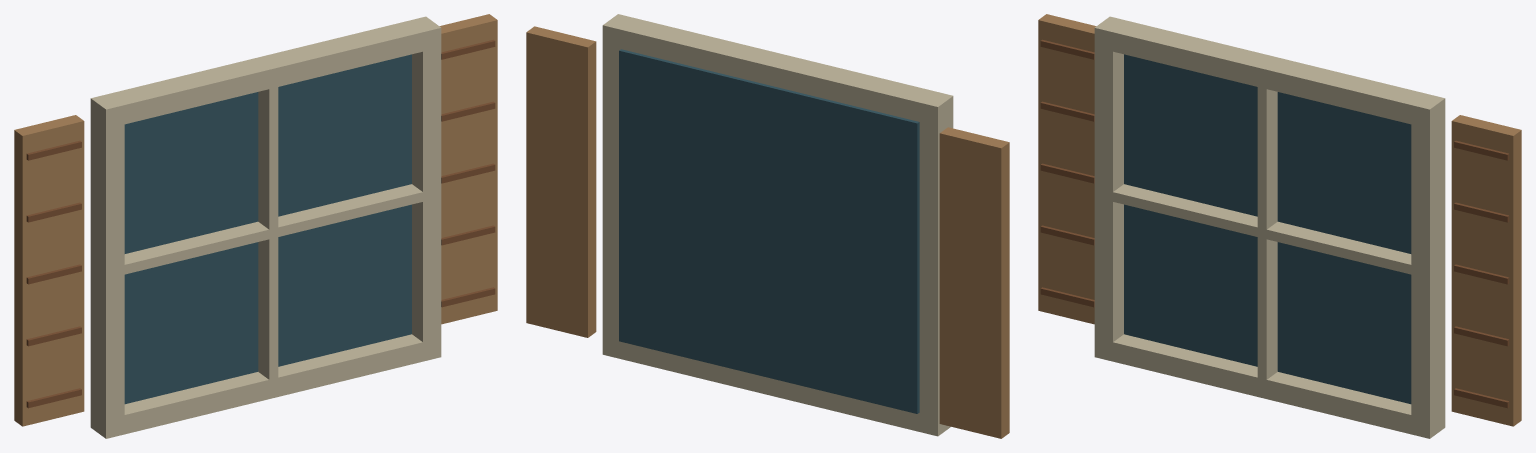
Rendered from window_01.glb.
3 views of the same model, side by side, from view 1: azimuth 30°, elevation 25°; view 2: azimuth 150°, elevation 25°; view 3: azimuth 330°, elevation 25° (orthographic).
Visible parts, largest first — view 1: window_01; view 2: window_01; view 3: window_01.
Part boxes in pixels (<box>): window_01: <box>14,14,497,438</box>; window_01: <box>526,14,1009,438</box>; window_01: <box>1038,14,1521,438</box>.
Size of the model in its own units: 2.31 by 1.53 by 0.185.
